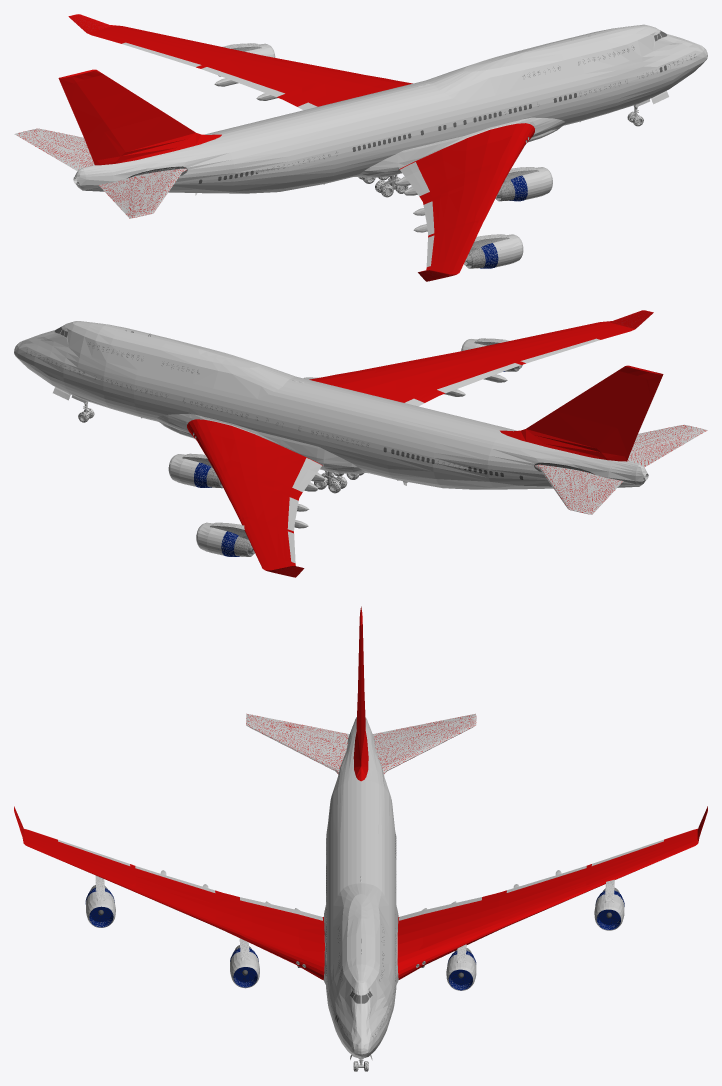
3 renders of one model, top to bottom at view 1: azimuth 30°, elevation 25°; view 2: azimuth 150°, elevation 25°; view 3: azimuth 270°, elevation 25°, orthographic.
Parts seen in each view (by area): view 1: mesh3.003_mesh3-geometry, mesh79.004_mesh79-geometry, mesh42.004_mesh42-geometry, mesh110.004_mesh110-geometry, mesh2.003_mesh2-geometry, mesh22.003_mesh22-geometry, mesh1.003_mesh1-geometry, mesh119.005_mesh119-geometry, mesh119.006_mesh119-geometry, mesh48.004_mesh48-geometry; view 2: mesh3.003_mesh3-geometry, mesh42.004_mesh42-geometry, mesh79.004_mesh79-geometry, mesh110.004_mesh110-geometry, mesh1.003_mesh1-geometry, mesh22.003_mesh22-geometry, mesh2.003_mesh2-geometry, mesh125.006_mesh125-geometry, mesh125.005_mesh125-geometry, mesh85.004_mesh85-geometry; view 3: mesh3.003_mesh3-geometry, mesh79.004_mesh79-geometry, mesh42.004_mesh42-geometry, mesh2.003_mesh2-geometry, mesh1.003_mesh1-geometry, mesh110.004_mesh110-geometry.
Boxes of the visible parts, x1,y1,x2,y2 form: mesh3.003_mesh3-geometry: (74,24,707,195); mesh79.004_mesh79-geometry: (399,123,534,274); mesh42.004_mesh42-geometry: (87,25,412,110); mesh110.004_mesh110-geometry: (58,69,221,165); mesh2.003_mesh2-geometry: (99,168,187,218); mesh22.003_mesh22-geometry: (354,117,565,177); mesh1.003_mesh1-geometry: (14,128,94,171); mesh119.005_mesh119-geometry: (480,234,523,268); mesh119.006_mesh119-geometry: (509,167,552,201); mesh48.004_mesh48-geometry: (68,14,115,32); mesh3.003_mesh3-geometry: (14,321,647,489); mesh42.004_mesh42-geometry: (187,419,322,571); mesh79.004_mesh79-geometry: (309,321,635,406); mesh110.004_mesh110-geometry: (500,365,663,461); mesh1.003_mesh1-geometry: (535,464,623,514); mesh22.003_mesh22-geometry: (156,413,368,473); mesh2.003_mesh2-geometry: (627,424,707,467); mesh125.006_mesh125-geometry: (168,454,211,487); mesh125.005_mesh125-geometry: (196,522,239,556); mesh85.004_mesh85-geometry: (606,310,653,328); mesh3.003_mesh3-geometry: (326,717,396,1058); mesh79.004_mesh79-geometry: (23,829,324,980); mesh42.004_mesh42-geometry: (397,828,698,979); mesh2.003_mesh2-geometry: (246,713,349,774); mesh1.003_mesh1-geometry: (372,713,476,773); mesh110.004_mesh110-geometry: (353,606,368,781).
Bounding box in the file's own units: 0.7166 × 0.1977 × 0.6689.
